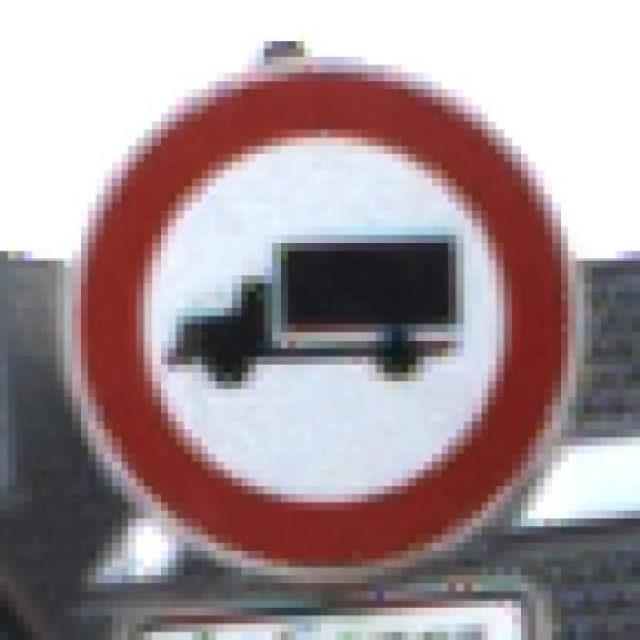Truck traffic is prohibited: (56, 49, 584, 592)
